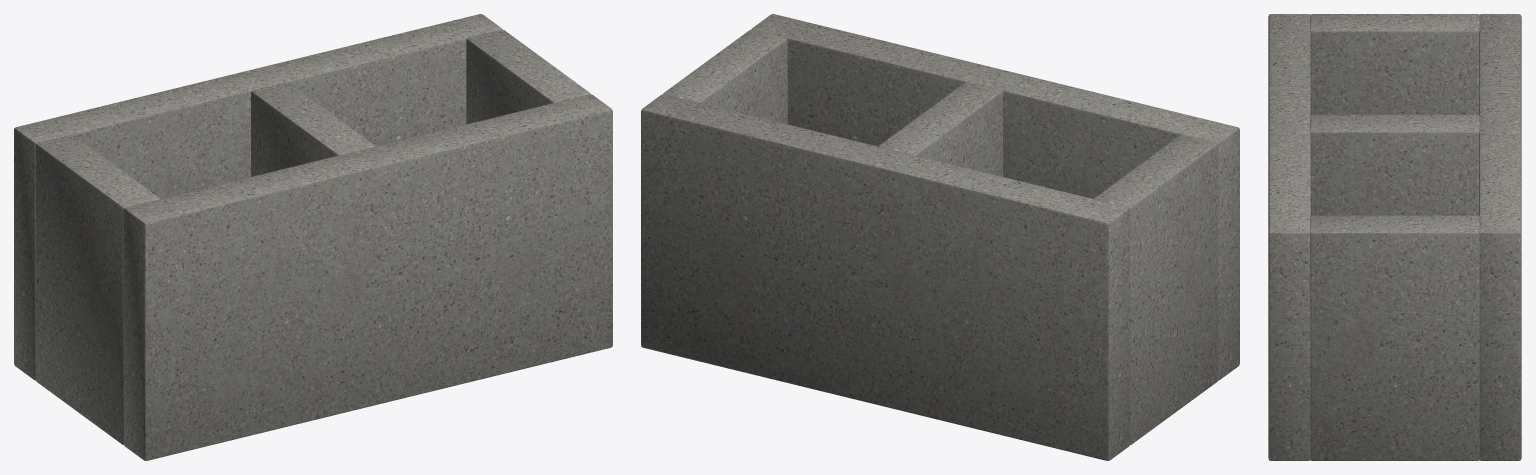
File: ALV-BCO-007.glb
3 views of the same model, side by side, from view 1: azimuth 30°, elevation 25°; view 2: azimuth 150°, elevation 25°; view 3: azimuth 270°, elevation 25° (orthographic). The views are drawn at different scales.
Parts seen in each view (by area): view 1: ALV-BCO-007_pf1, ALV-BCO-007_pf2, ALV-BCO-007_t0, ALV-BCO-007_t2, ALV-BCO-007_t1; view 2: ALV-BCO-007_pf2, ALV-BCO-007_pf1, ALV-BCO-007_t0, ALV-BCO-007_t2, ALV-BCO-007_t1; view 3: ALV-BCO-007_t2, ALV-BCO-007_pf1, ALV-BCO-007_pf2, ALV-BCO-007_t1, ALV-BCO-007_t0.
Boxes of the visible parts, x1,y1,x2,y2 form: ALV-BCO-007_pf1: (123, 94, 612, 460); ALV-BCO-007_pf2: (14, 14, 502, 380); ALV-BCO-007_t0: (35, 134, 159, 444); ALV-BCO-007_t2: (466, 29, 590, 124); ALV-BCO-007_t1: (251, 82, 375, 176); ALV-BCO-007_pf2: (641, 94, 1130, 460); ALV-BCO-007_pf1: (751, 14, 1239, 380); ALV-BCO-007_t0: (1094, 134, 1218, 444); ALV-BCO-007_t2: (663, 29, 787, 124); ALV-BCO-007_t1: (878, 82, 1002, 176); ALV-BCO-007_t2: (1310, 215, 1479, 460); ALV-BCO-007_pf1: (1268, 14, 1310, 460); ALV-BCO-007_pf2: (1479, 14, 1521, 460); ALV-BCO-007_t1: (1310, 114, 1479, 215); ALV-BCO-007_t0: (1310, 14, 1479, 114).
Bounding box in the file's own units: 0.39 × 0.19 × 0.19.
1 material, 1 textured.
